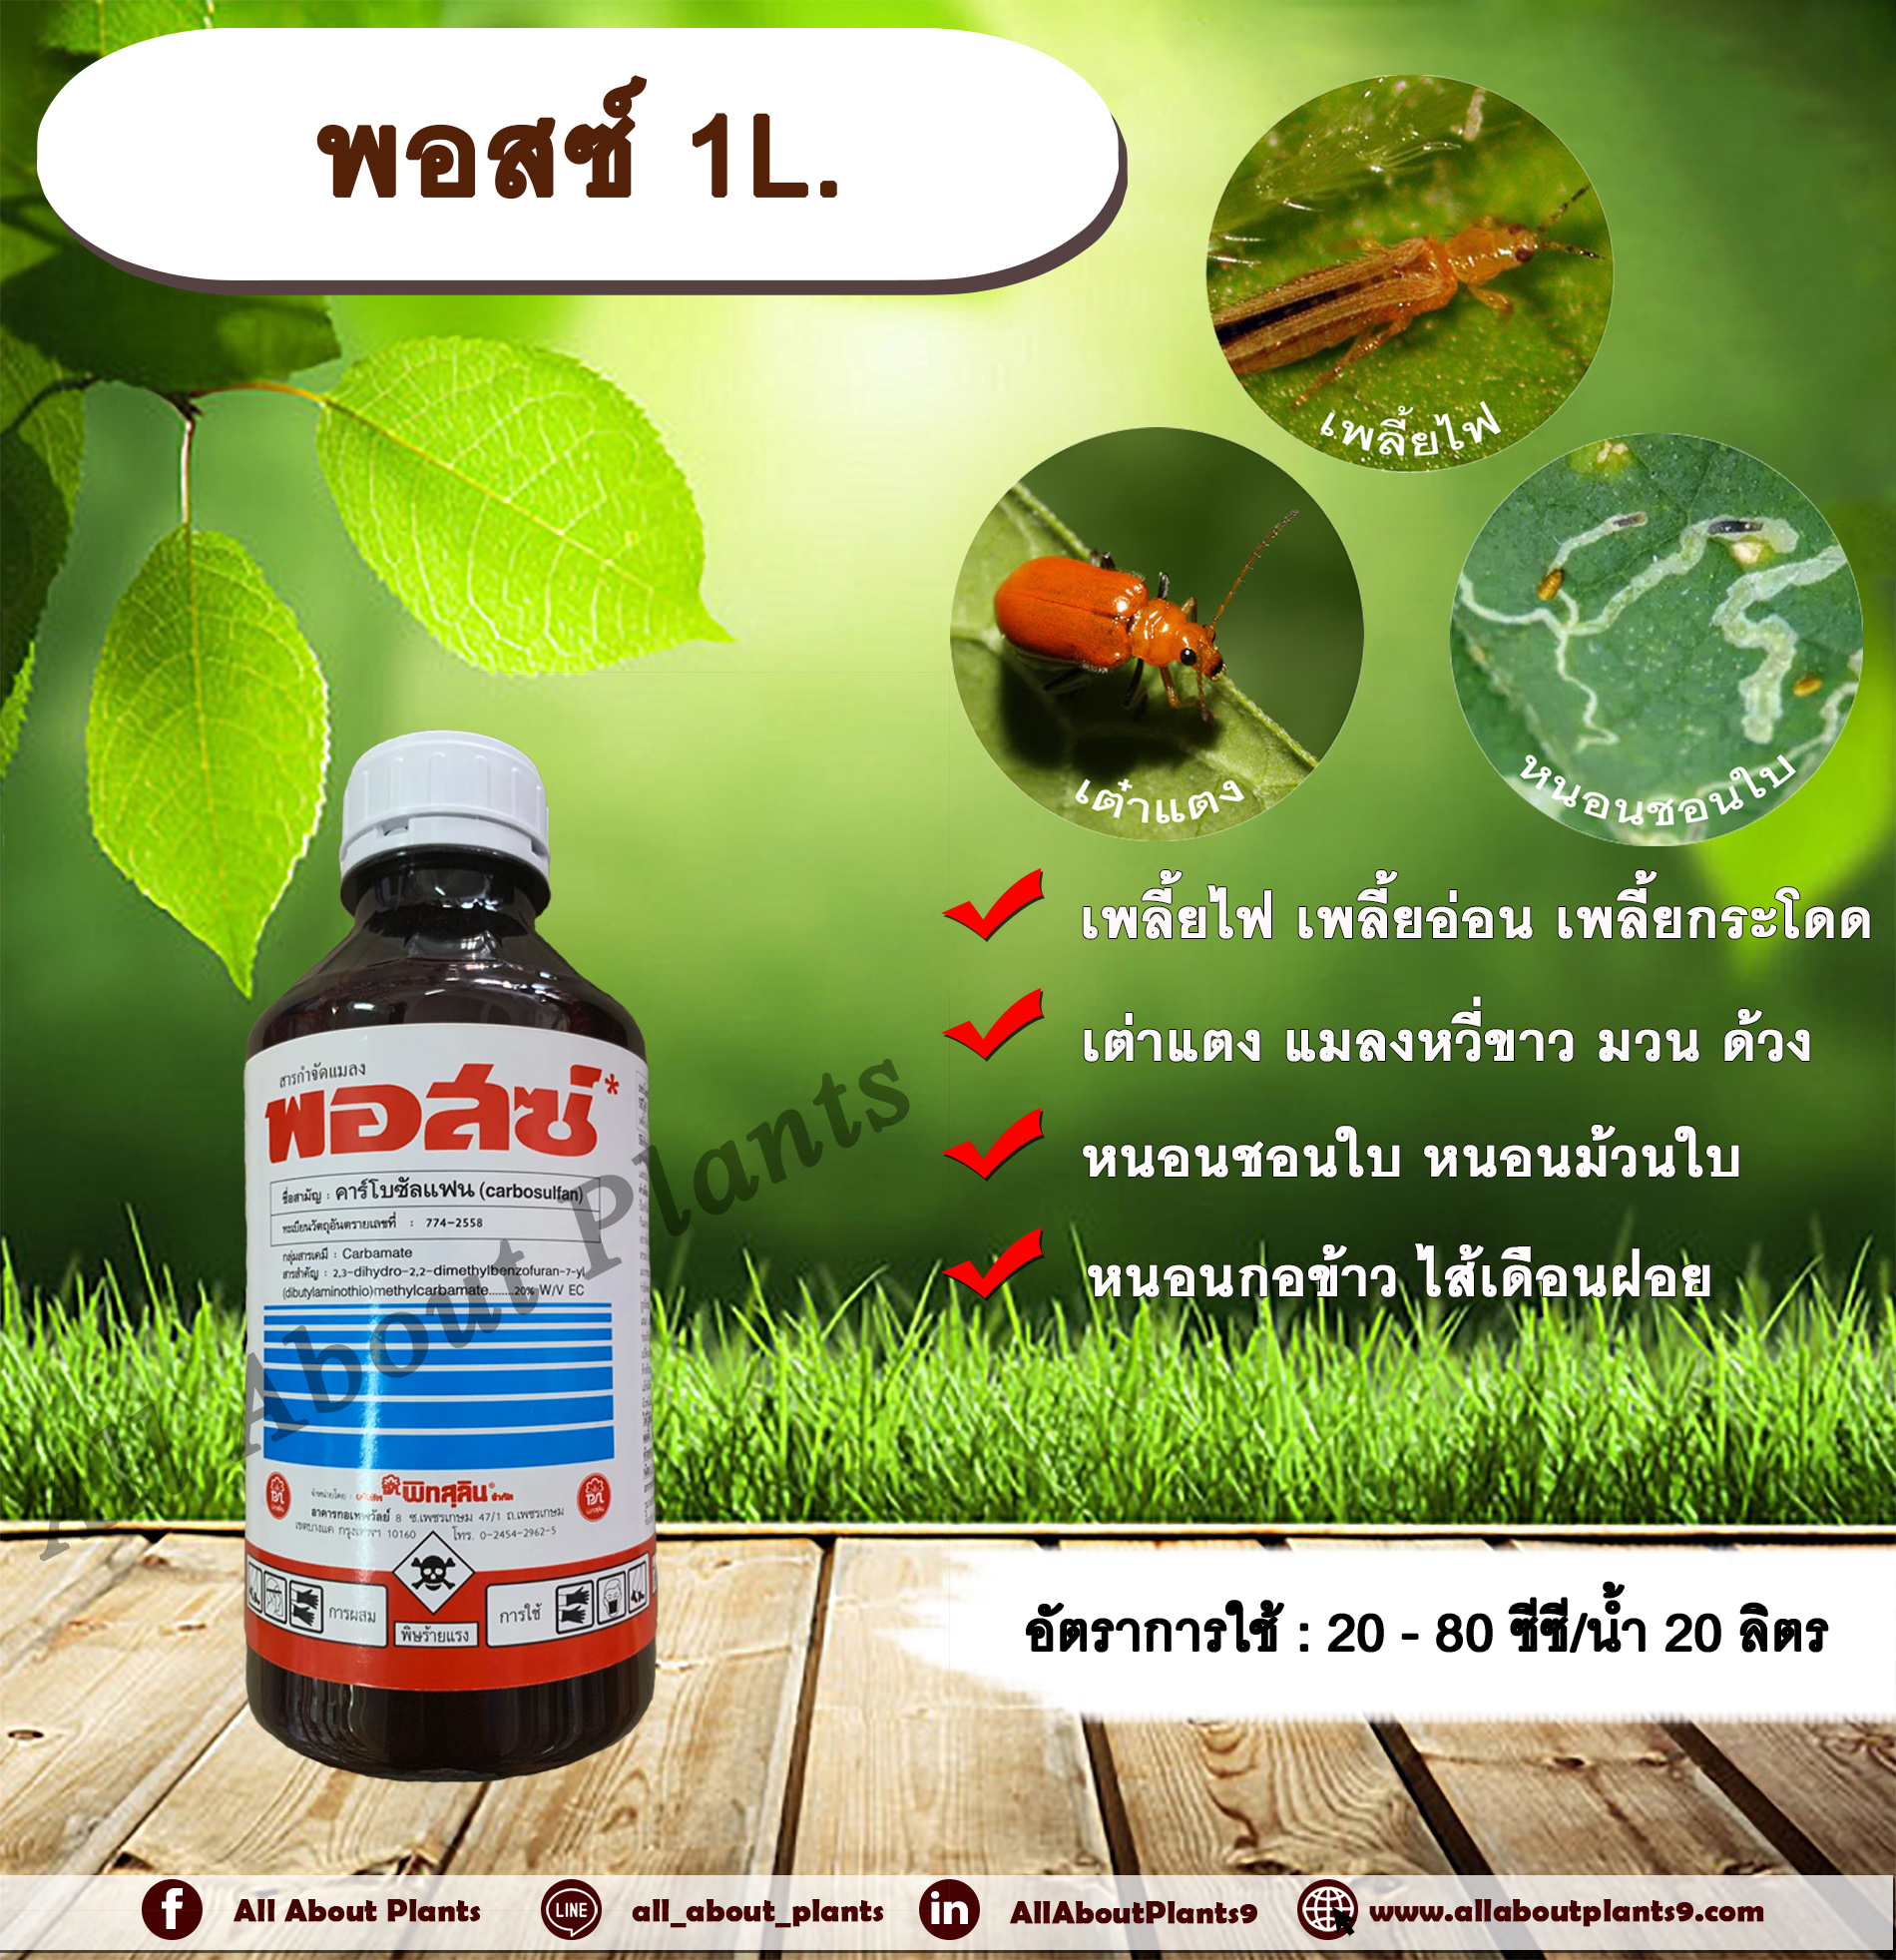Insecticide: (224, 707, 673, 1806)
